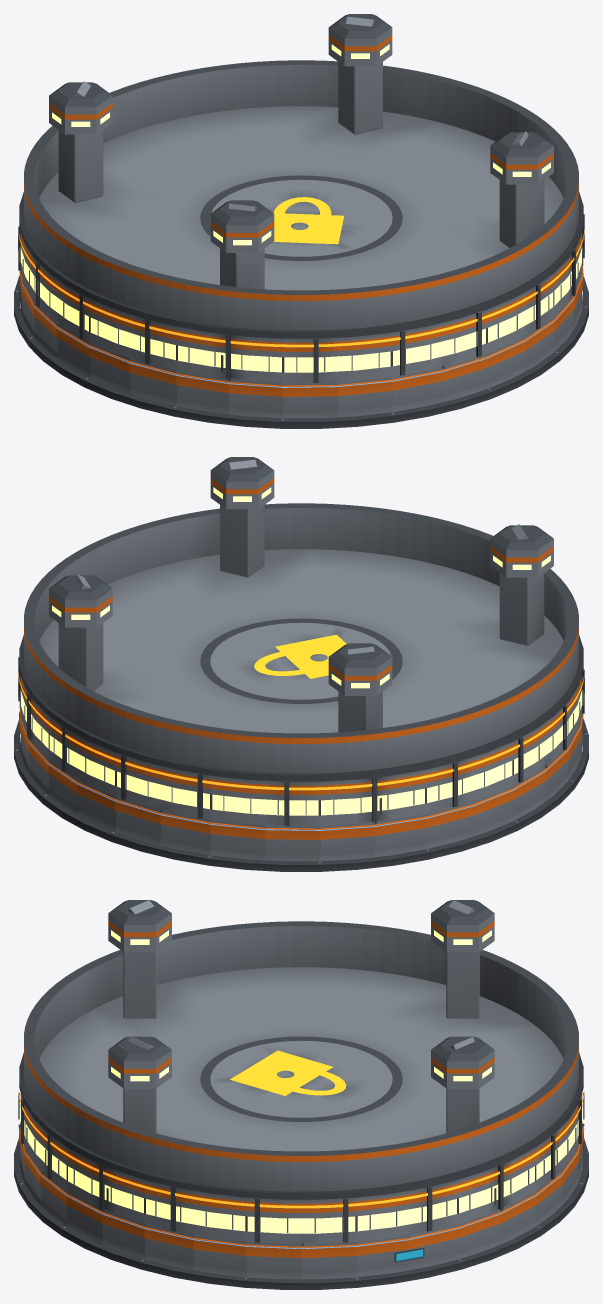
The model's file is jail_l.glb.
The picture shows the model from 3 angles, top to bottom: view 1: azimuth 30°, elevation 25°; view 2: azimuth 150°, elevation 25°; view 3: azimuth 270°, elevation 25°; orthographic projection.
Parts seen in each view (by area): view 1: Roof, Base, PorchTop, Upper_21, Upper_20, Upper_22, Upper_19, Upper_23, Wall_21, Upper_18, Wall_20, Wall_22 (+17 smaller); view 2: Roof, Base, PorchTop, Upper_10, Upper_11, Upper_09, Upper_12, Upper_08, Wall_10, Upper_13, Wall_11, Wall_09 (+17 smaller); view 3: Roof, Base, PorchTop, Upper_00, Upper_31, Upper_01, Upper_30, Upper_02, Upper_29, Wall_00, Wall_31, Wall_30 (+19 smaller).
Boxes of the visible parts, bbox=[...] form: Roof: bbox=[19, 14, 583, 338]; Base: bbox=[14, 275, 588, 428]; PorchTop: bbox=[19, 16, 584, 347]; Upper_21: bbox=[283, 337, 337, 383]; Upper_20: bbox=[228, 334, 282, 382]; Upper_22: bbox=[338, 332, 391, 381]; Upper_19: bbox=[177, 327, 228, 378]; Upper_23: bbox=[392, 323, 441, 376]; Wall_21: bbox=[283, 381, 338, 418]; Upper_18: bbox=[130, 314, 176, 370]; Wall_20: bbox=[228, 378, 282, 418]; Wall_22: bbox=[338, 376, 392, 417]; Roof: bbox=[19, 457, 583, 781]; Base: bbox=[14, 718, 588, 871]; PorchTop: bbox=[18, 459, 583, 790]; Upper_10: bbox=[265, 780, 319, 826]; Upper_11: bbox=[320, 777, 374, 825]; Upper_09: bbox=[211, 775, 264, 824]; Upper_12: bbox=[374, 770, 425, 821]; Upper_08: bbox=[161, 766, 210, 819]; Wall_10: bbox=[264, 824, 319, 861]; Upper_13: bbox=[426, 757, 472, 813]; Wall_11: bbox=[320, 821, 374, 861]; Wall_09: bbox=[210, 819, 264, 860]; Roof: bbox=[19, 900, 583, 1199]; Base: bbox=[14, 1138, 588, 1289]; PorchTop: bbox=[18, 900, 584, 1208]; Upper_00: bbox=[301, 1197, 356, 1243]; Upper_31: bbox=[246, 1197, 301, 1243]; Upper_01: bbox=[356, 1190, 408, 1241]; Upper_30: bbox=[194, 1190, 246, 1241]; Upper_02: bbox=[409, 1180, 457, 1233]; Upper_29: bbox=[145, 1180, 193, 1233]; Wall_00: bbox=[301, 1241, 356, 1279]; Wall_31: bbox=[246, 1241, 301, 1279]; Wall_30: bbox=[193, 1234, 246, 1277].
Size of the model in its own units: 18.96 by 7.13 by 18.96.
